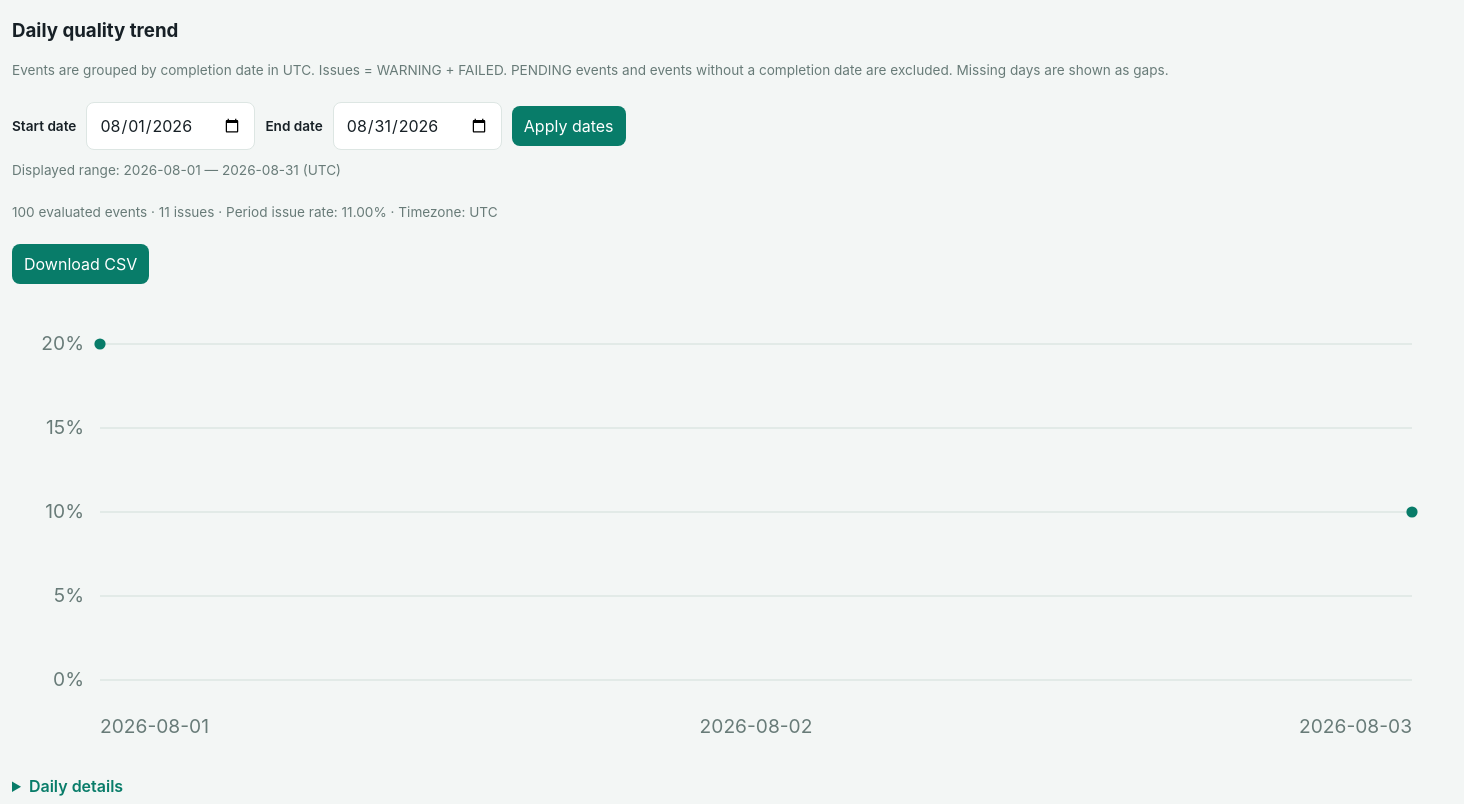
it: Daily quality chart › leaves a gap for a day without data
(page scrolled)
Click the heading "Daily details" at [76, 786], box [29,776,123,796]
(page scrolled)
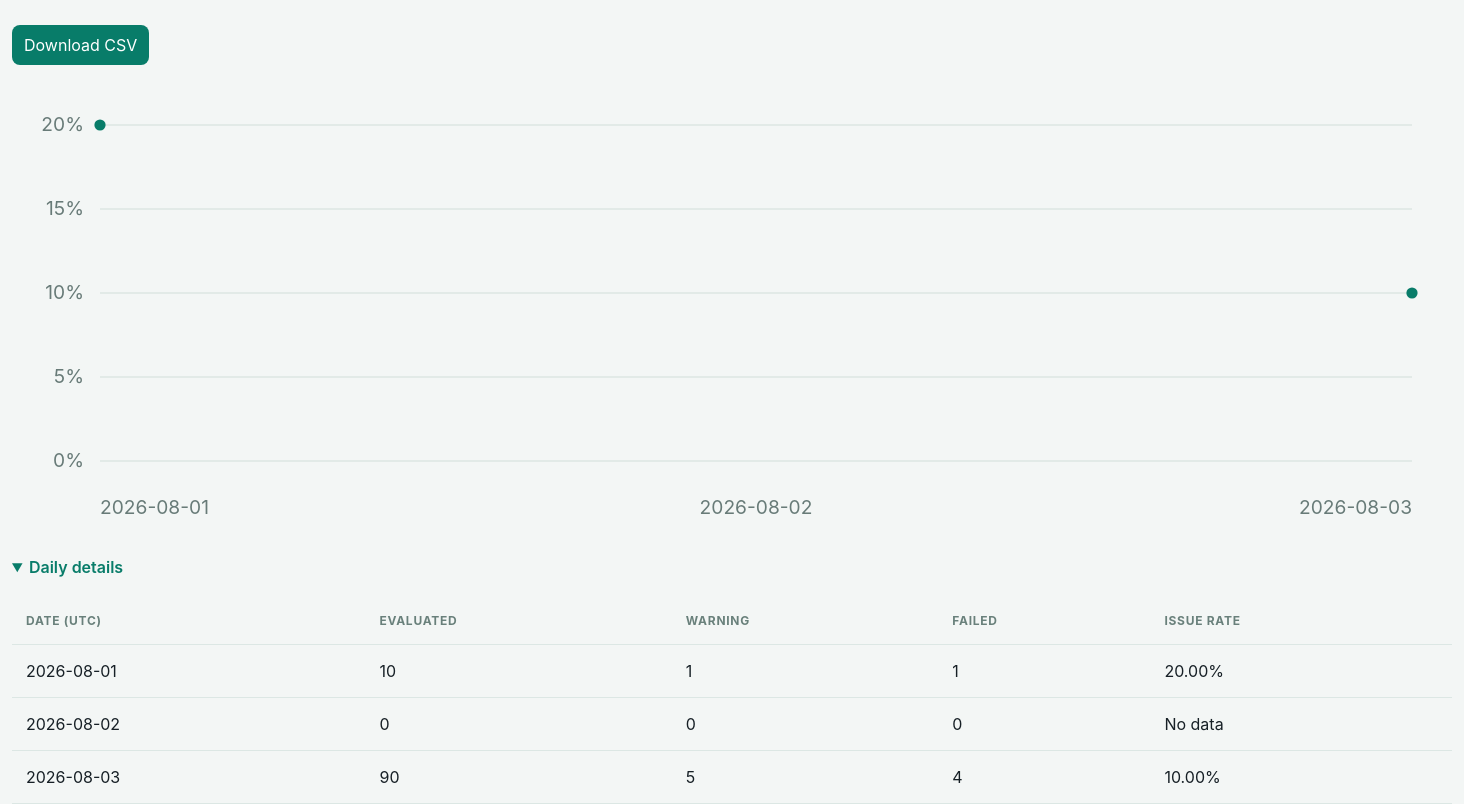
Result: the text "No data" is shown at [1150,697,1452,750]
